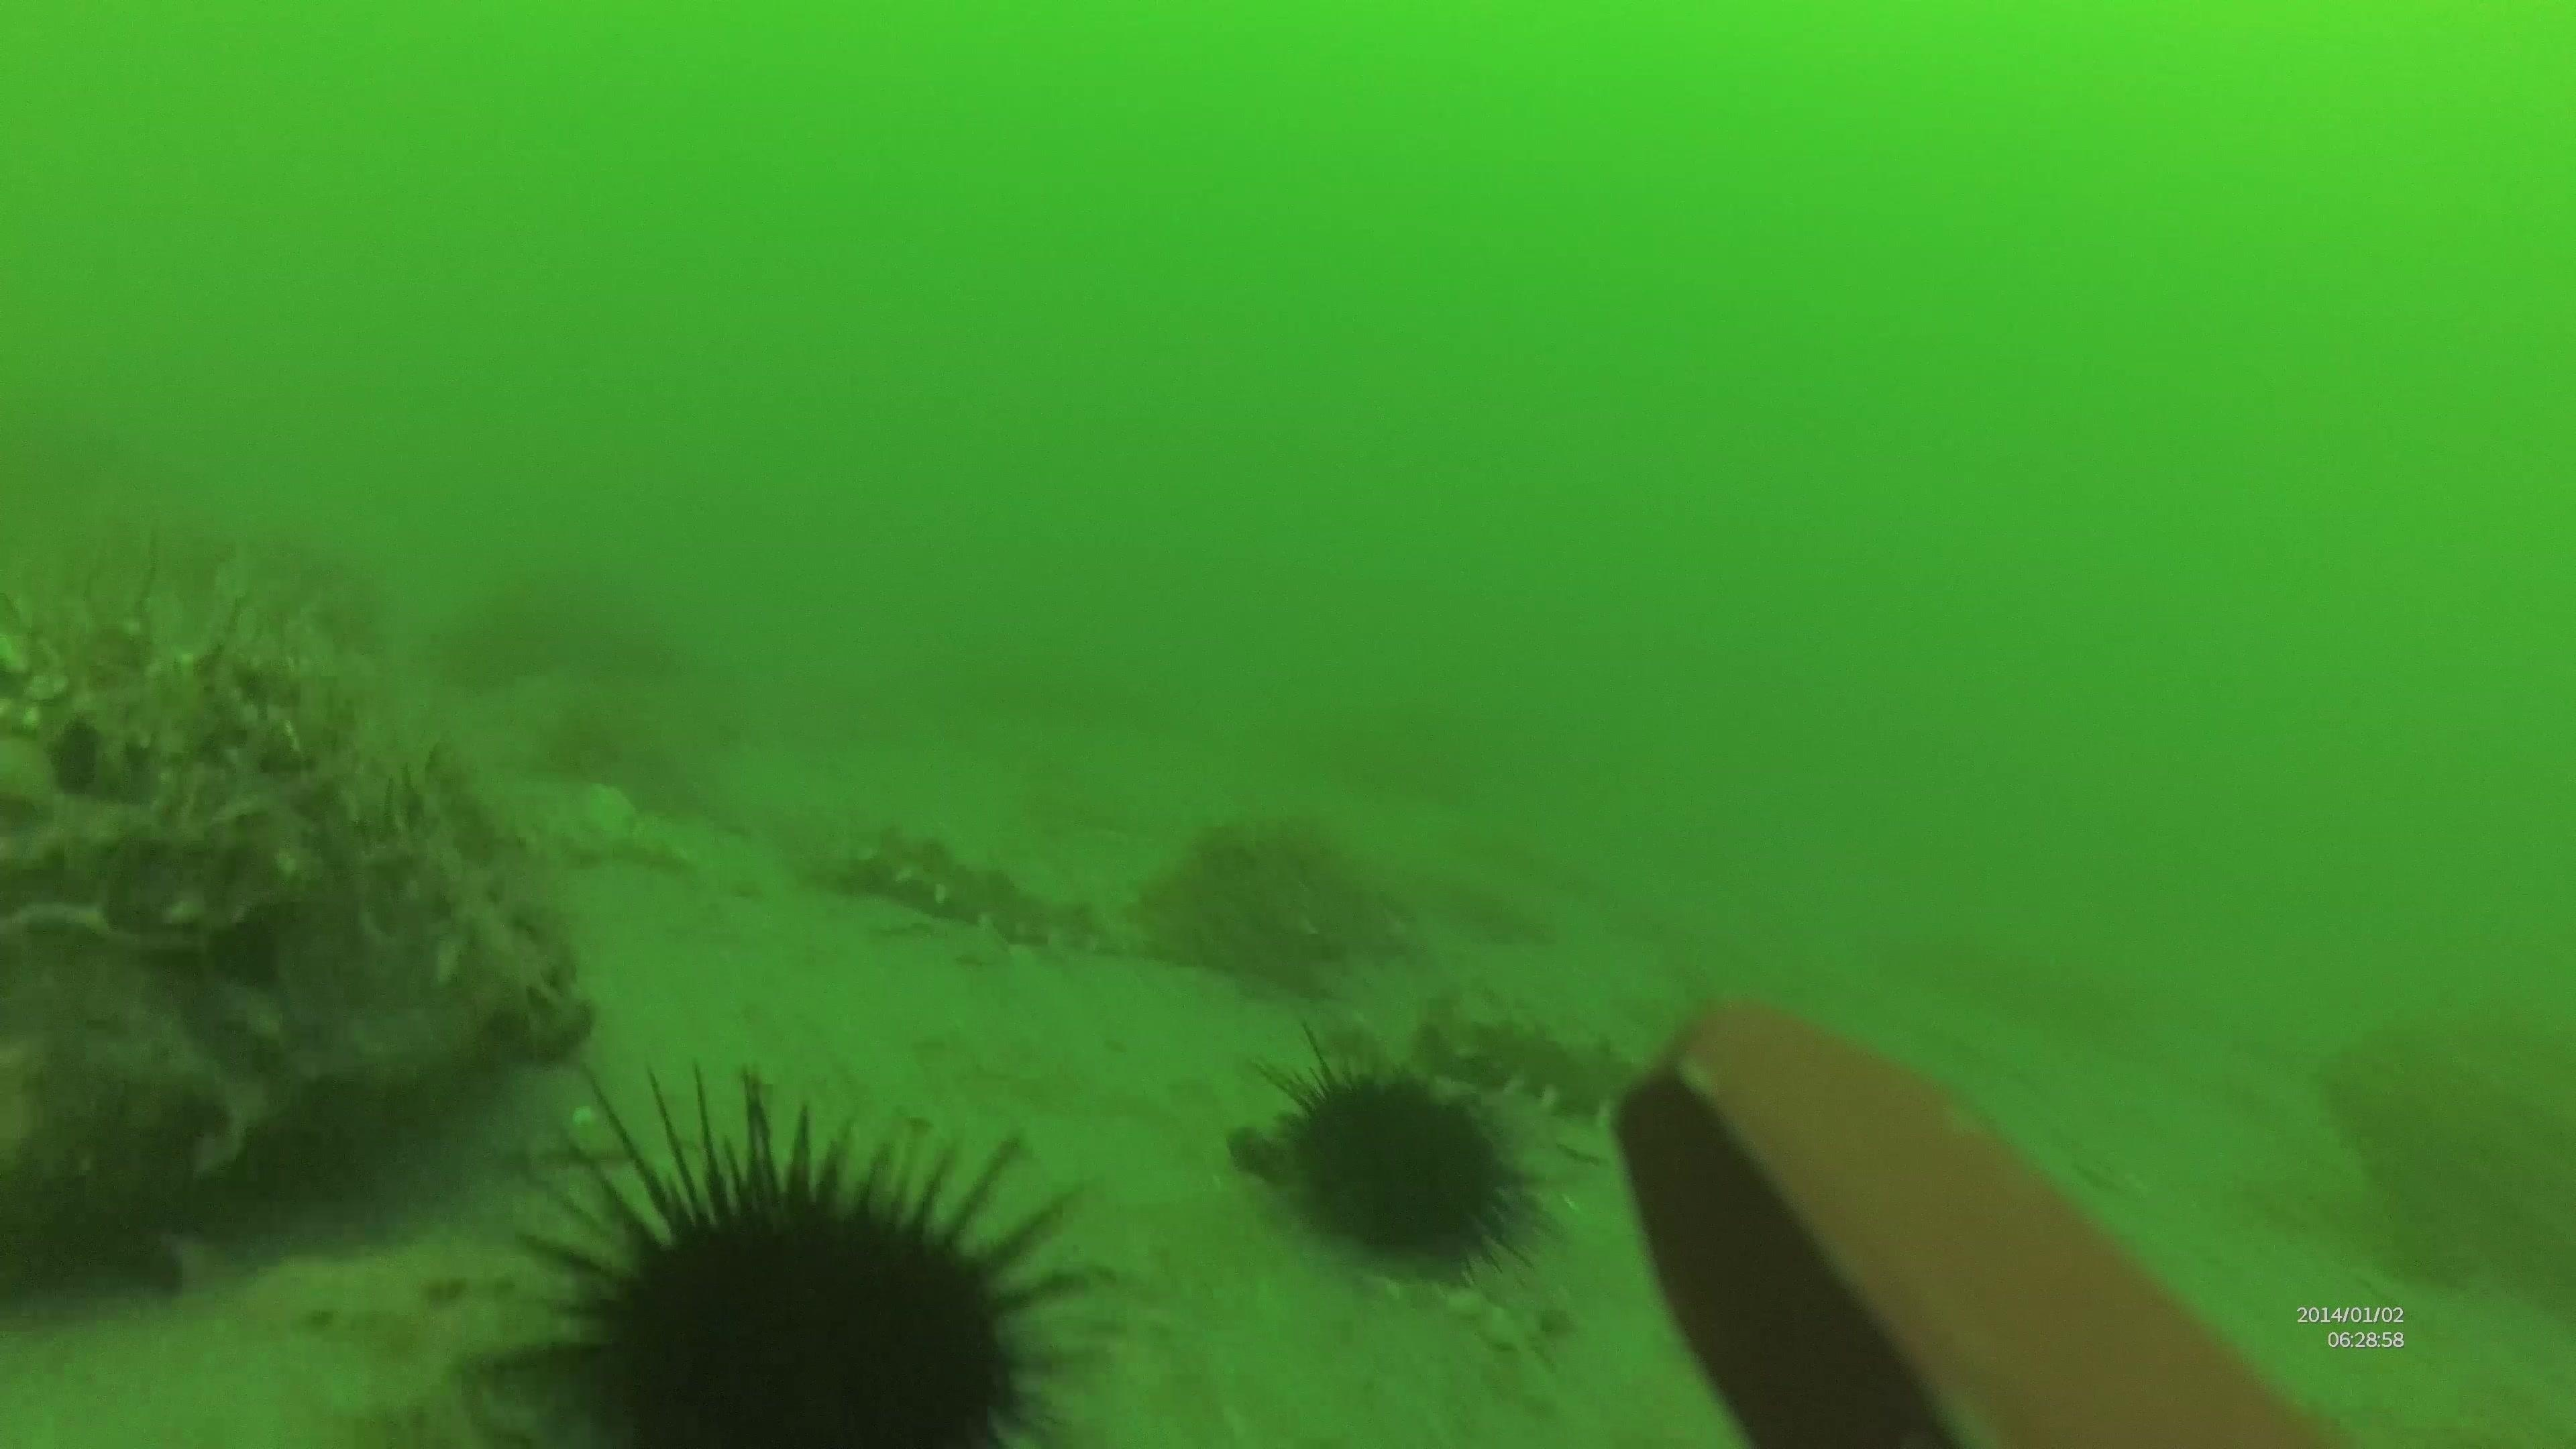echinus: (462, 1067, 1127, 1444), (1238, 1039, 1548, 1281)
holothurian: (824, 816, 1146, 962), (1407, 991, 1683, 1125)
